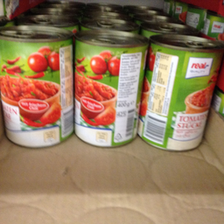tomato_sauce: (137, 34, 224, 153), (1, 24, 74, 149), (73, 30, 150, 148)
